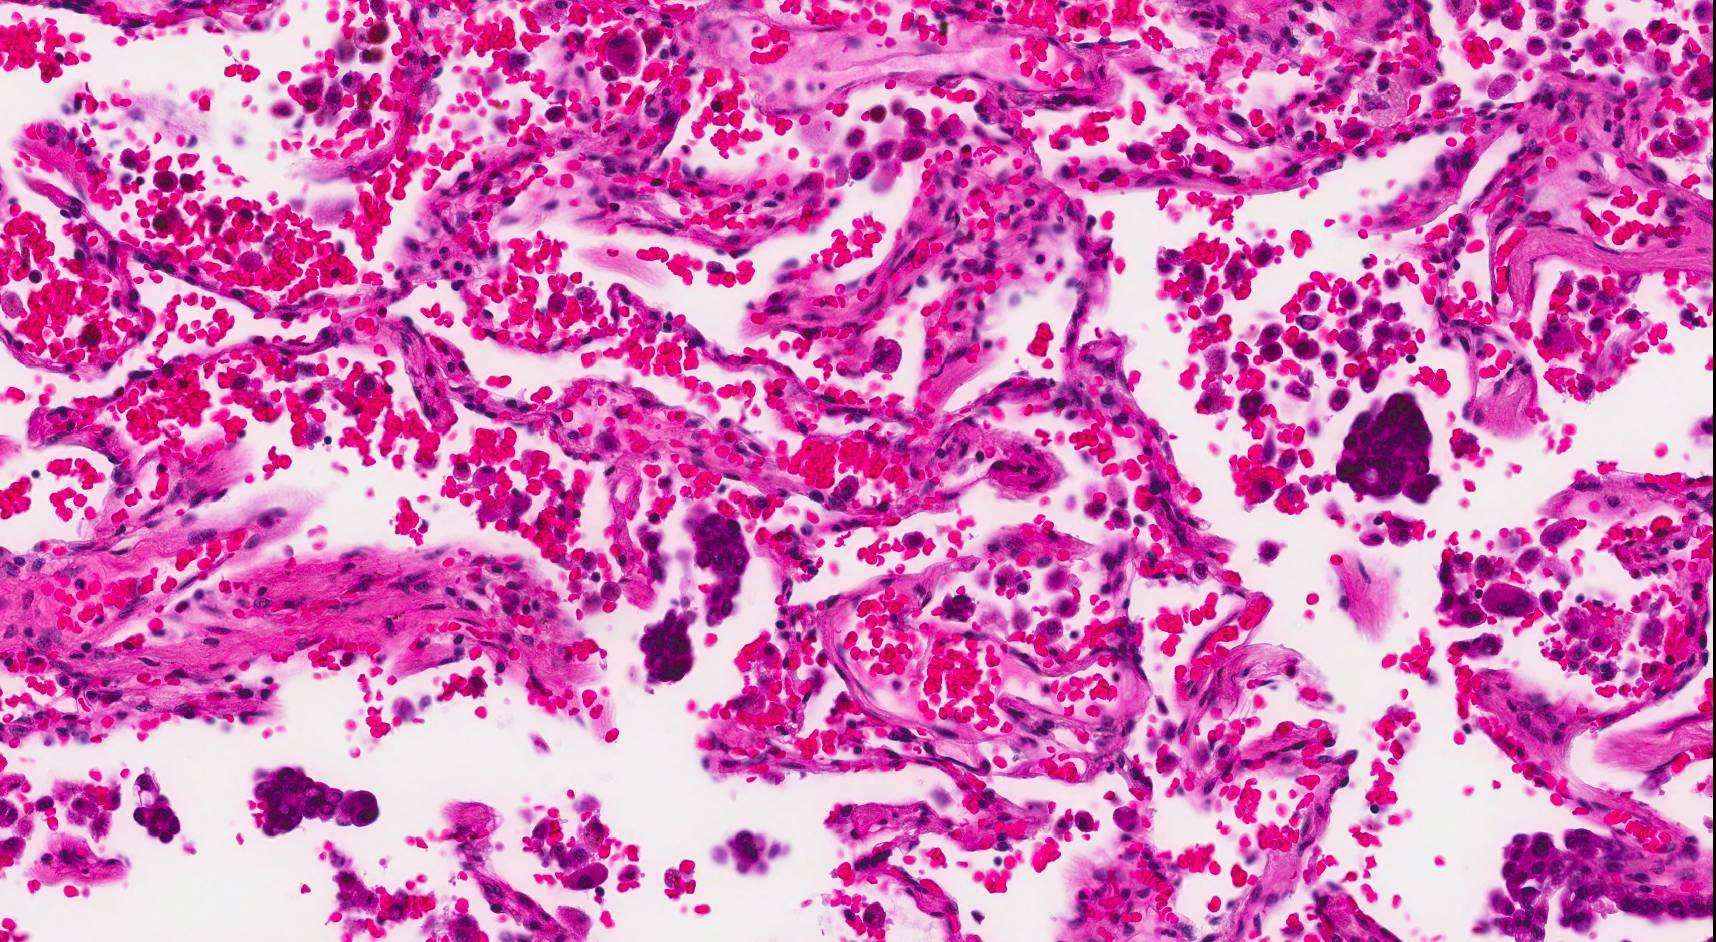stas: (1335, 388, 1445, 503), (250, 762, 382, 837), (686, 505, 751, 629), (635, 604, 702, 685), (132, 768, 183, 844)
